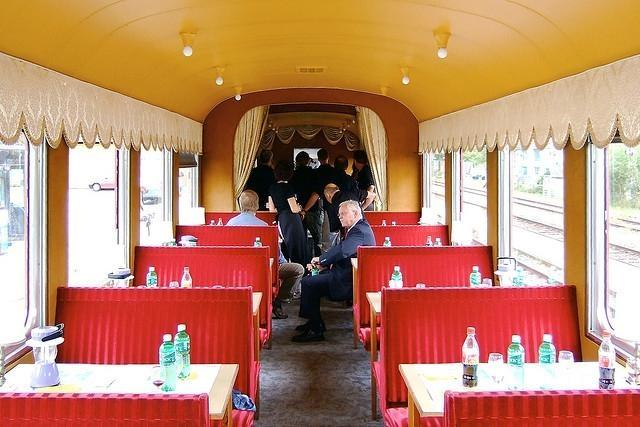car: (90, 178, 114, 191), (144, 189, 160, 204)
